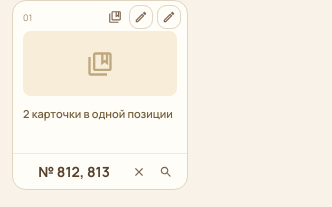
Test: clear cross beside the number empties 812,813 without a dialog
Click the button named "Очистить позицию 1, уровень 1" at (139, 172), box [127, 160, 151, 184]
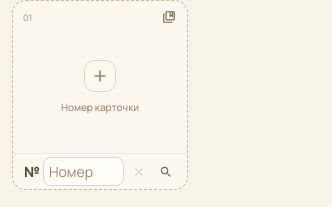
Check: the field labelled "№" is empty, box [43, 157, 124, 186]
Check: the button named "Очистить позицию 1, уровень 1" is disabled, box [127, 160, 151, 184]
Check: the link with class "sw-card-edit-link" is gone
